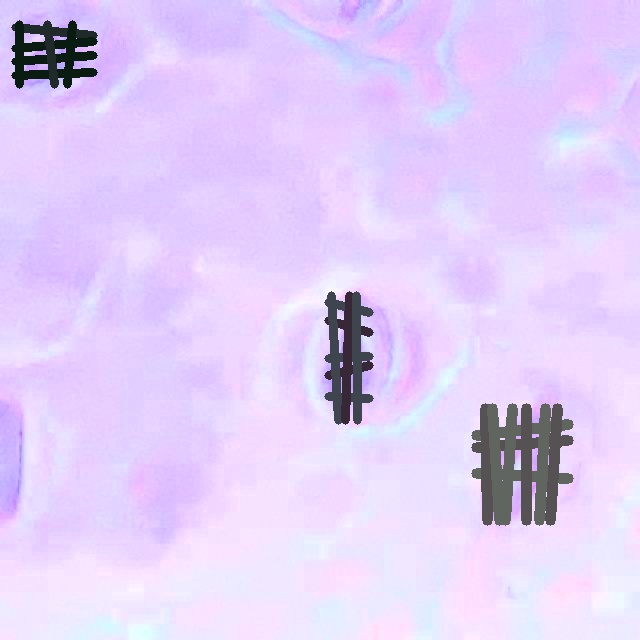open: (472, 404, 573, 525), (324, 291, 373, 424), (11, 20, 97, 88)
